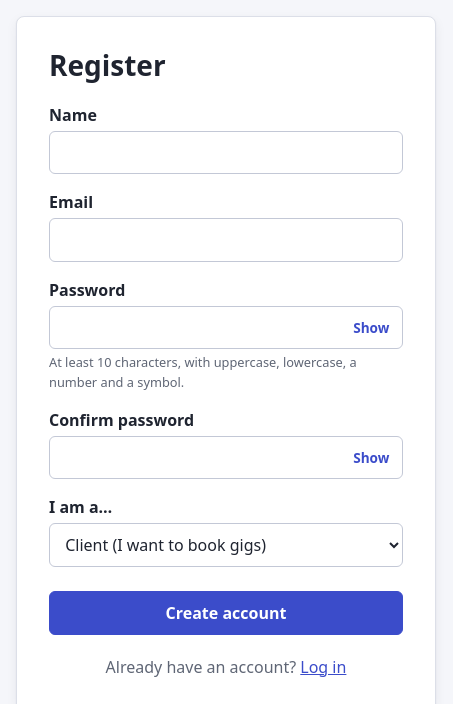
Test case: Register page › blocks submission when the passwords do not match
The image size is (453, 704).
In the field labelled "Name": (226, 152) [49,131,403,174], type "Thabo Mokoena"
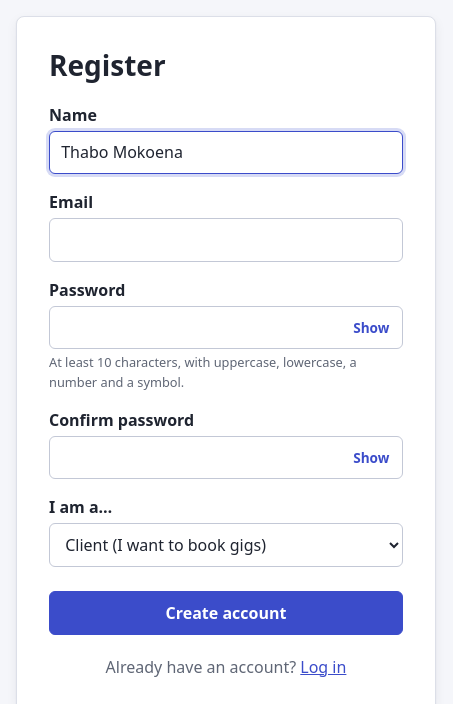
In the field labelled "Email": (226, 240) [49,218,403,262], type "thabo@example.com"
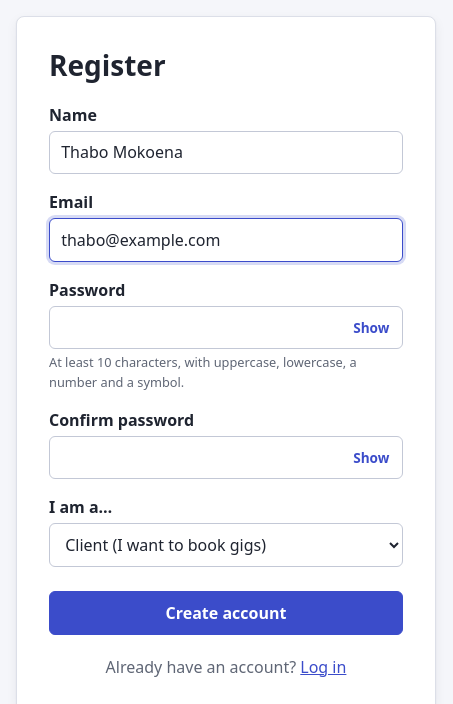
In the password field labelled "Password": (226, 328) [49,306,403,349], type "Str0ng!Passw0rd"
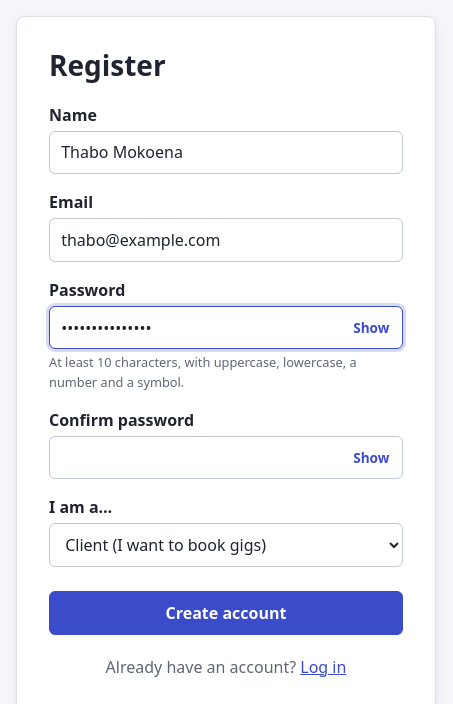
In the password field labelled "Confirm password": (226, 458) [49,436,403,479], type "Str0ng!Passw0rdX"
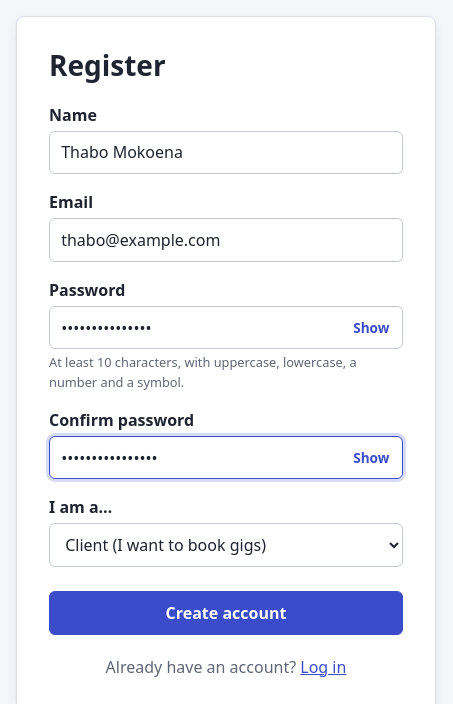
Click the button "Create account": (226, 613) [49,591,403,634]
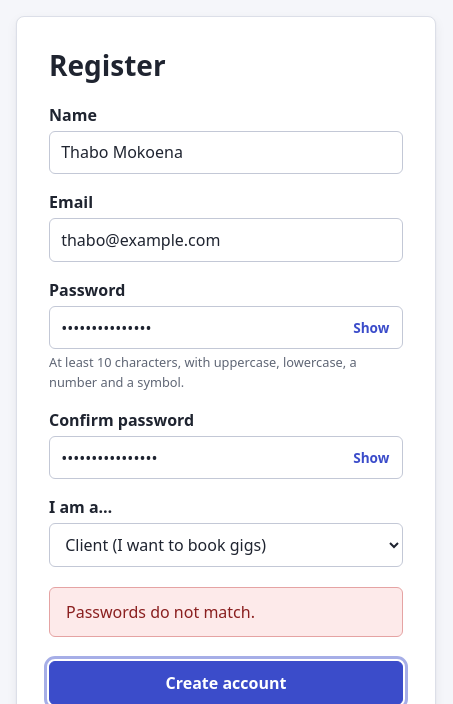
Expected: the text "Passwords do not match." is shown, [66,601,255,623]
